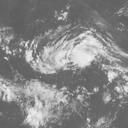cyclone: (23, 24, 118, 74)
